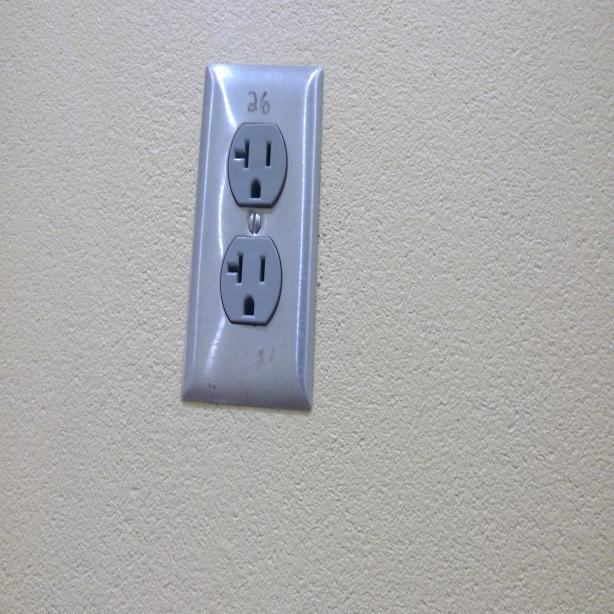typeb: (224, 239, 277, 323), (228, 127, 281, 203)
